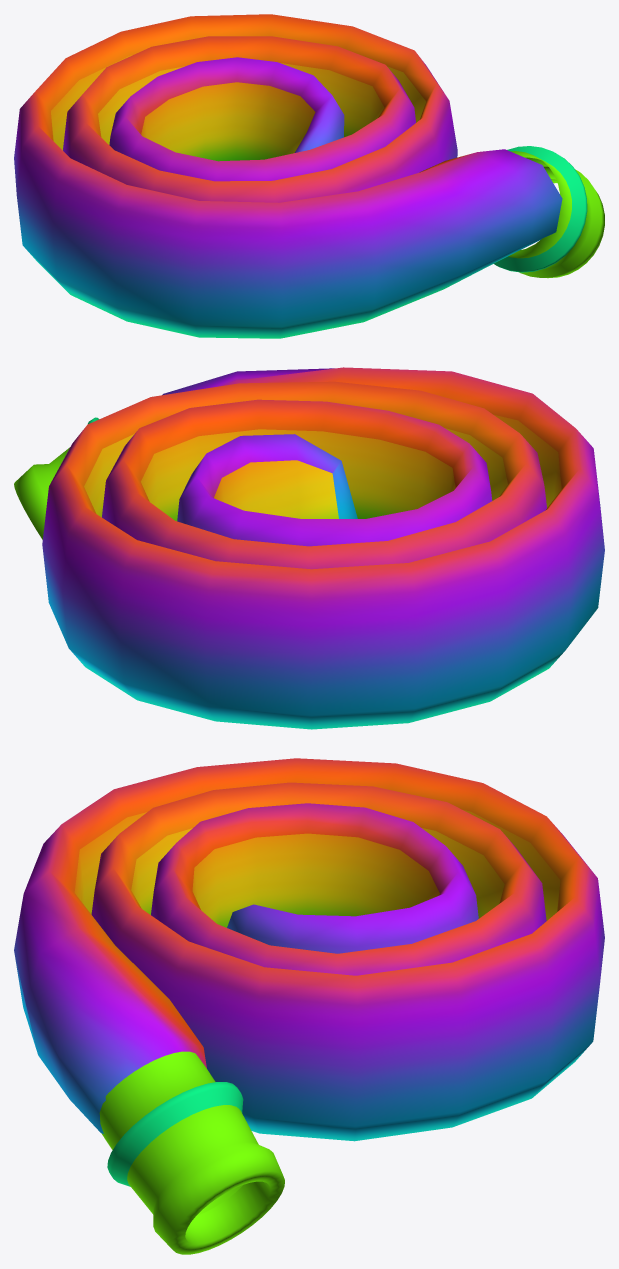
File: ongnuocmayman.fbx
3 views of the same model, one above another, from view 1: azimuth 30°, elevation 25°; view 2: azimuth 150°, elevation 25°; view 3: azimuth 270°, elevation 25° (orthographic). The views are drawn at different scales.
Visible parts, largest first — view 1: Spiral.001, Circle; view 2: Spiral.001, Circle; view 3: Spiral.001, Circle.
Boxes of the visible parts, bbox=[...] form: Spiral.001: bbox=[14, 14, 562, 338]; Circle: bbox=[494, 146, 604, 278]; Spiral.001: bbox=[42, 367, 604, 729]; Circle: bbox=[14, 417, 99, 539]; Spiral.001: bbox=[14, 758, 604, 1141]; Circle: bbox=[99, 1051, 284, 1254].
Size of the model in its own units: 56.78 by 21.04 by 47.38.
